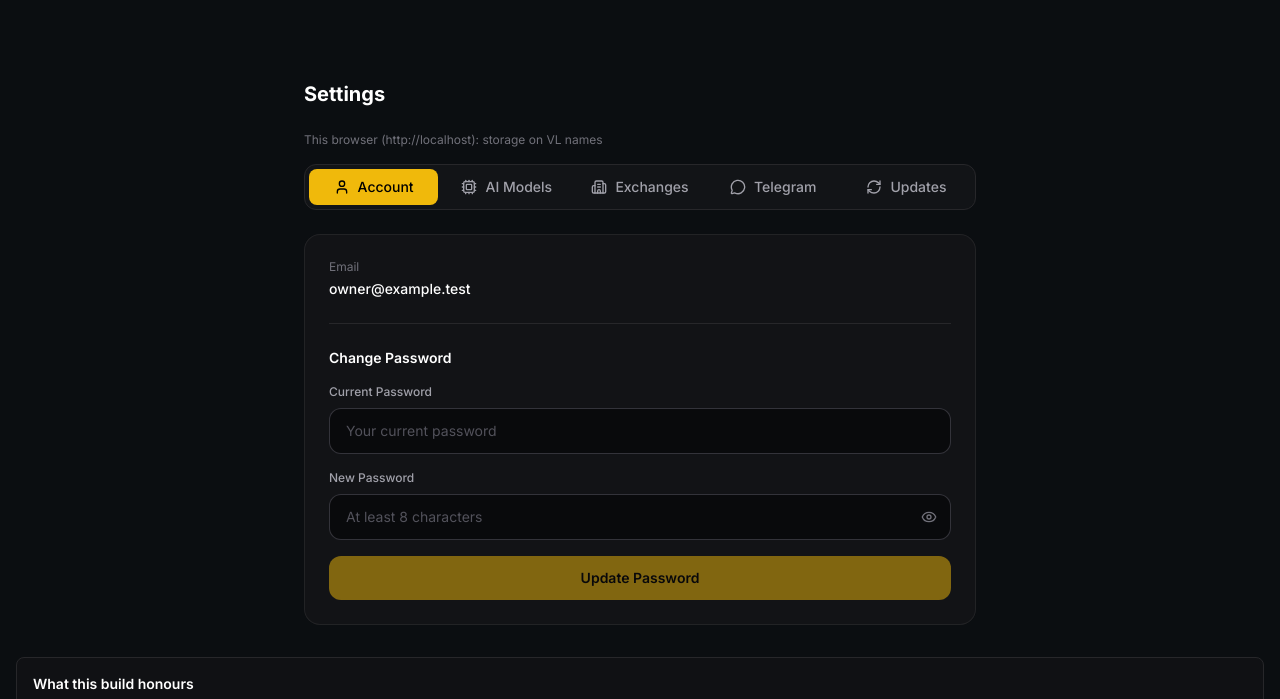
Test: Settings → Account → Change password › shows the server 400 refusal text
The image size is (1280, 699).
Type "x" into the password field labelled "Current Password" at (640, 431), box [329,408,951,454]
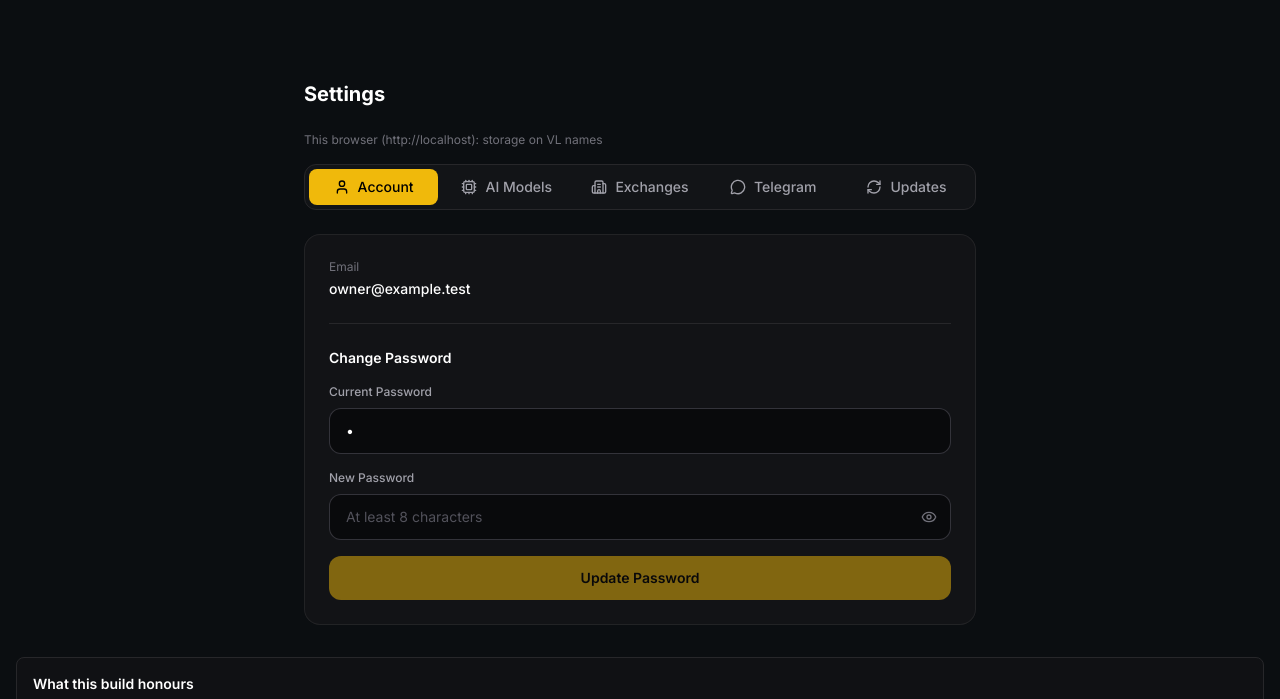
Type "the-new-pass-01" into the password field labelled "New Password" at (640, 517), box [329,494,951,540]
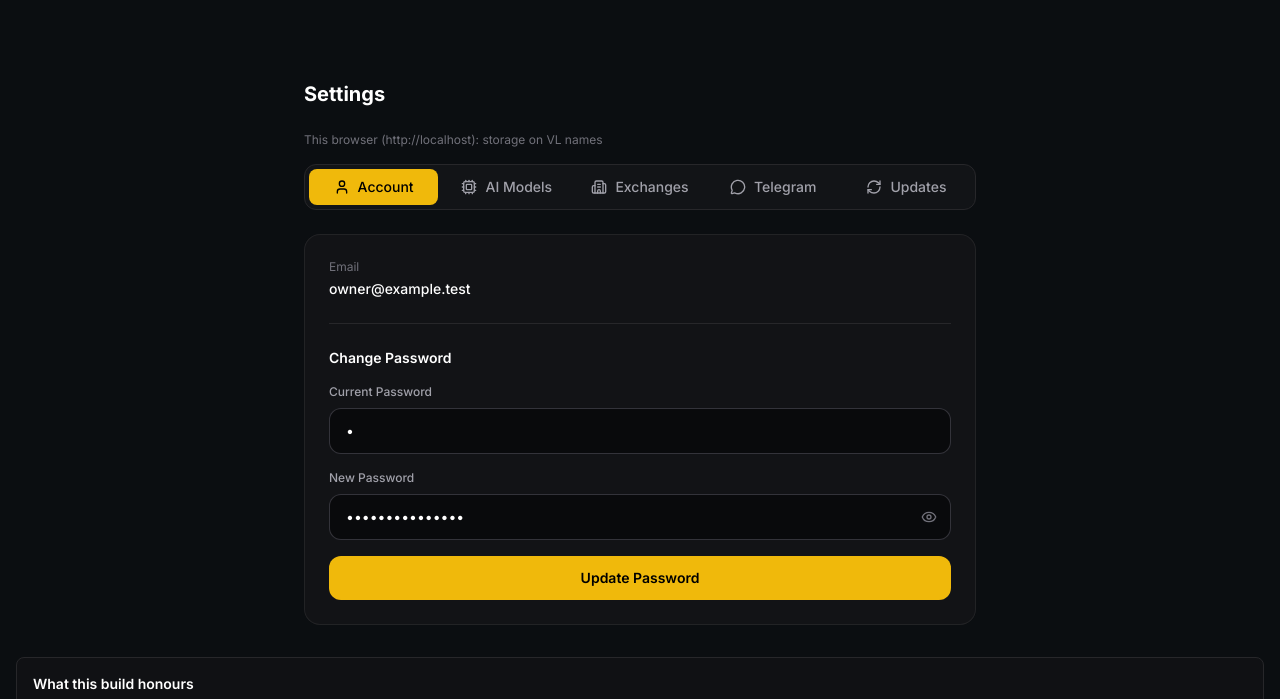
Click the button "Update Password" at (640, 578), box [329,556,951,600]
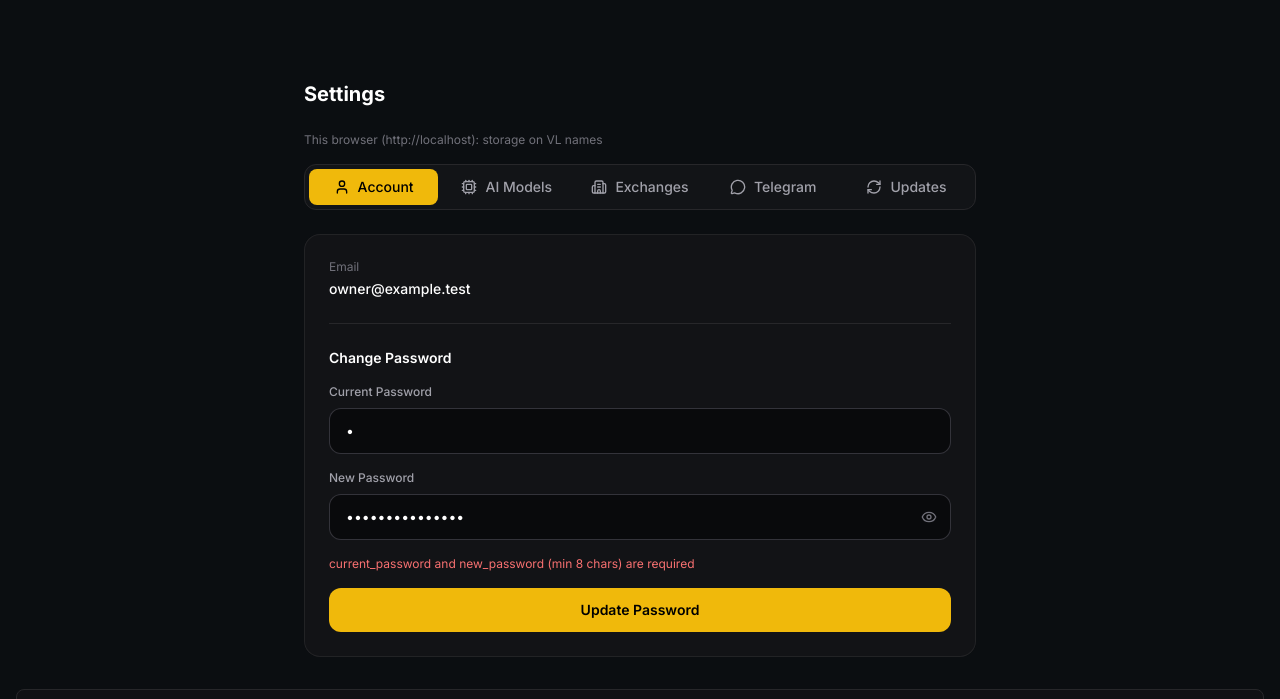
Expected: the message with test id "password-change-error" reads "current_password and new_password (min 8 chars) are required", [329,556,694,571]
